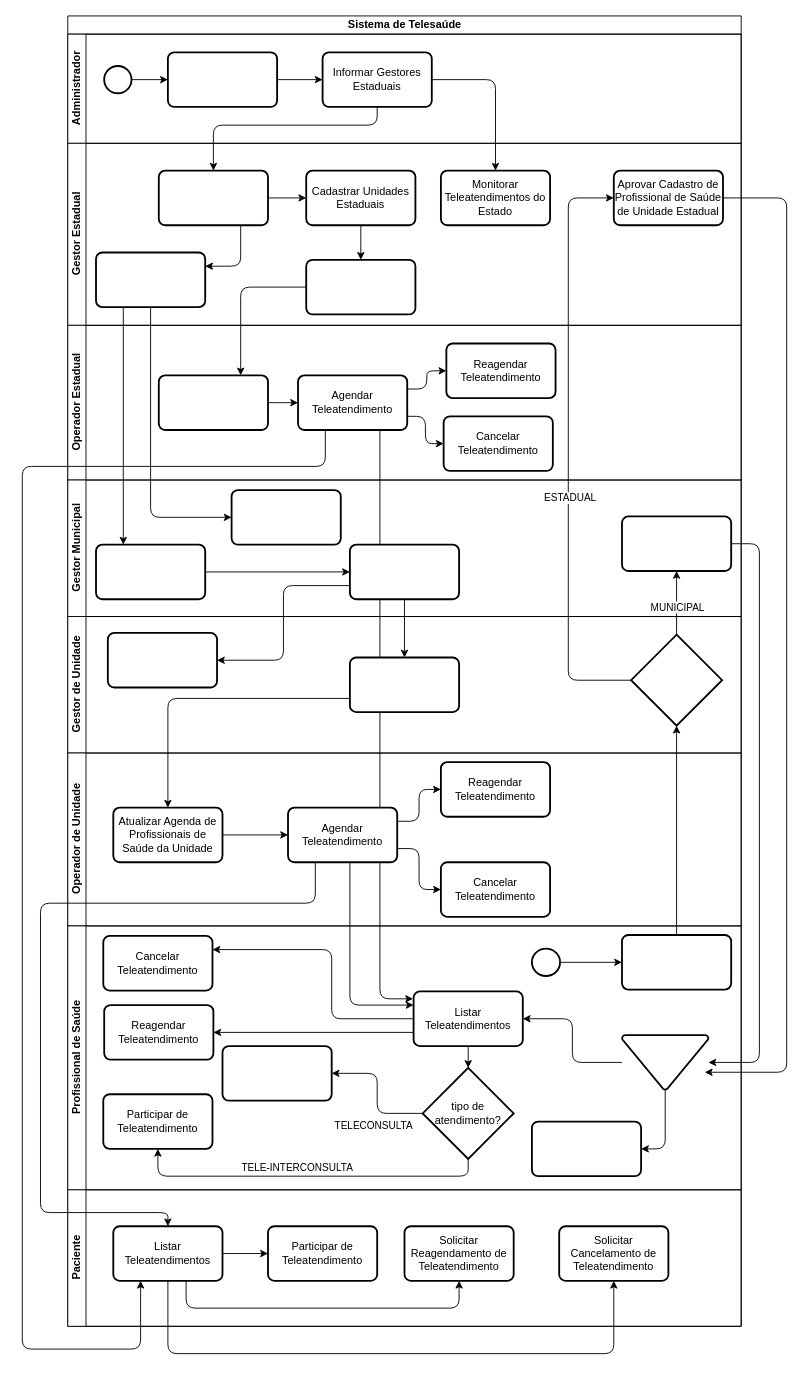
The diagram is 810 pixels wide and 1377 high, and some of its shapes have lost their labels. Here are the shapes that lost their labels. From the top down, the centre of each, then its label:
At pixel 222 79: "Cadastrar Estado".
At pixel 212 197: "Cadastrar Municípios".
At pixel 150 279: "Informar Gestores Municipais".
At pixel 360 286: "Informar Operadores Estuaduais".
At pixel 212 402: "Atualizar Agenda de Profissionais de Saúde de Unidades Estaduais".
At pixel 285 517: "Monitorar Teleatendimentos do Município".
At pixel 676 543: "Aprovar Cadastro de Profissional de Saúde de Unidade Municipal".
At pixel 150 571: "Cadastrar Unidades Municipais".
At pixel 404 571: "Informar Gestores de Unidade Municipal".
At pixel 161 660: "Monitorar Teleatendimentos da Unidade".
At pixel 676 679: "tipo de unidade?".
At pixel 404 684: "Informar Operadores da Unidade".
At pixel 676 962: "Solicitar Cadastro de Vínculo em Unidade".
At pixel 276 1073: "Realizar Teleatendimento".
At pixel 586 1148: "Definir/Atualizar Agenda de Atendimento".
